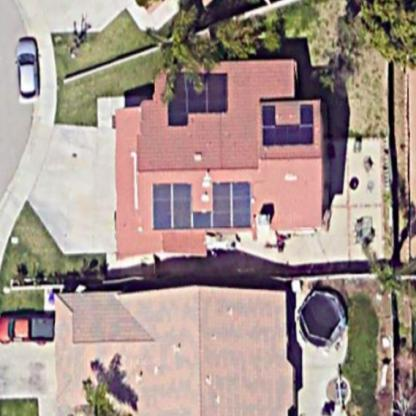car: (1, 306, 58, 354), (14, 31, 47, 111)
solar_panel: (142, 176, 258, 233), (158, 66, 235, 126), (253, 103, 324, 158)
